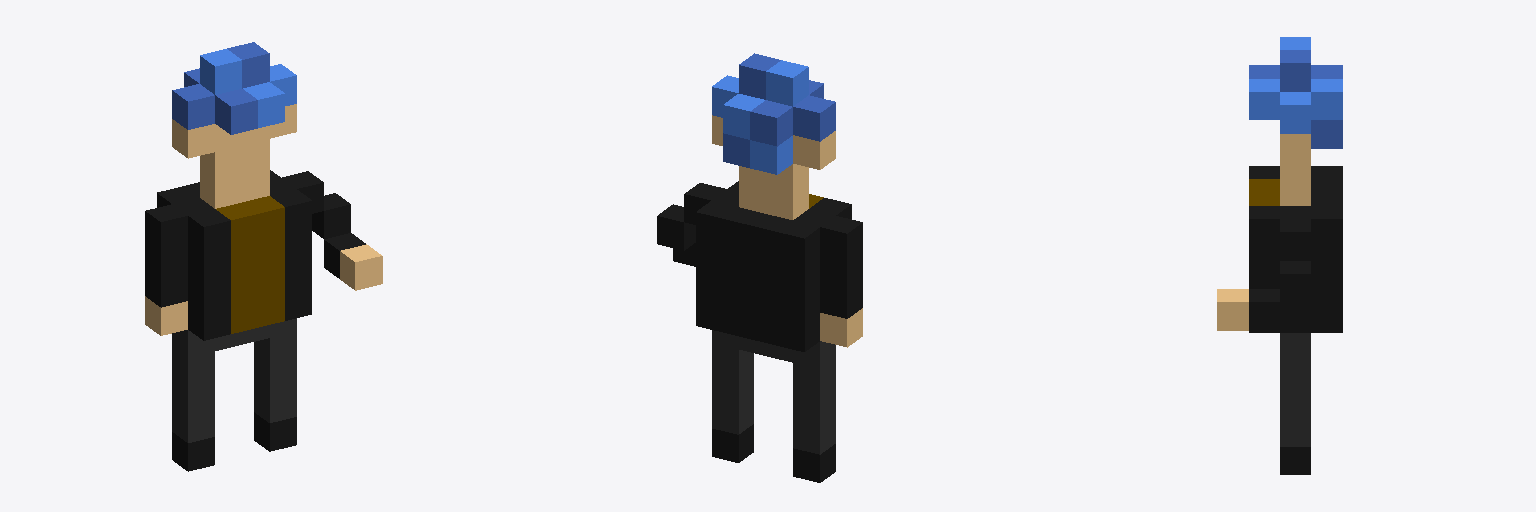
3 renders of one model, left to right at view 1: azimuth 30°, elevation 25°; view 2: azimuth 150°, elevation 25°; view 3: azimuth 270°, elevation 25°, orthographic.
Bounding box in the file's own units: 7 × 14 × 4.
Materials: 1 (1 with a texture image).